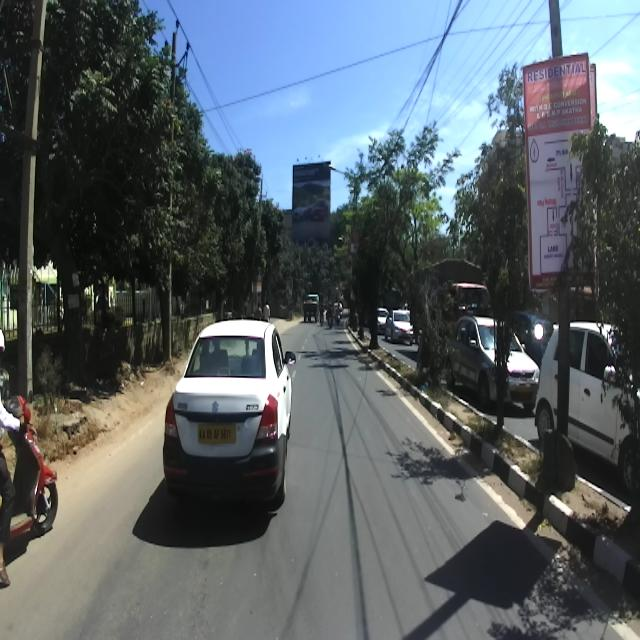car ahead at: (162, 310, 297, 506)
motorcycle ahead at: (1, 395, 60, 554)
